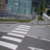zebra: (1, 23, 31, 50)
